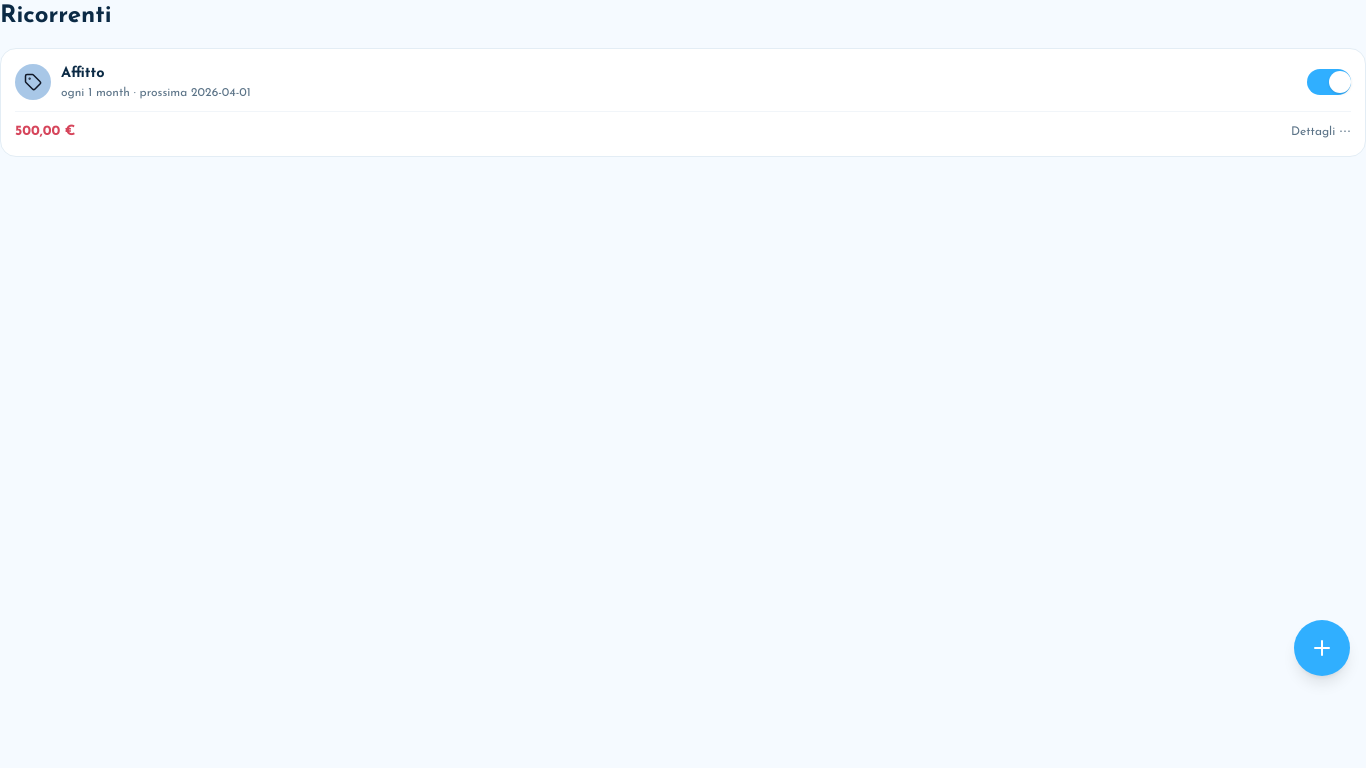
Test: Ricorrenti › toccare la riga apre il foglio con le tre azioni
Click the text "Affitto" at (83, 74), box [61,66,105,81]
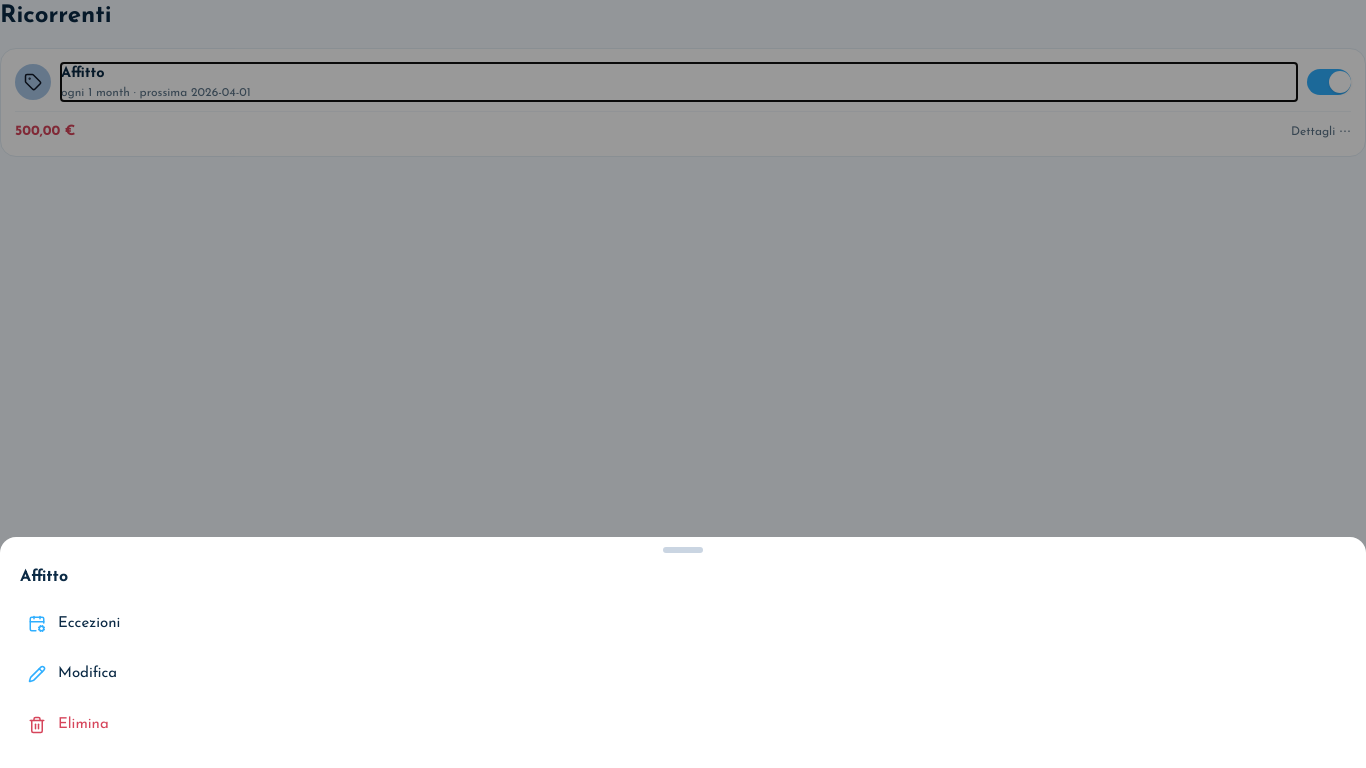
expect the button "Eccezioni" is shown: met, box [20,600,1346,647]
expect the button "Modifica" is shown: met, box [20,651,1346,698]
expect the button "Elimina" is shown: met, box [20,702,1346,748]
